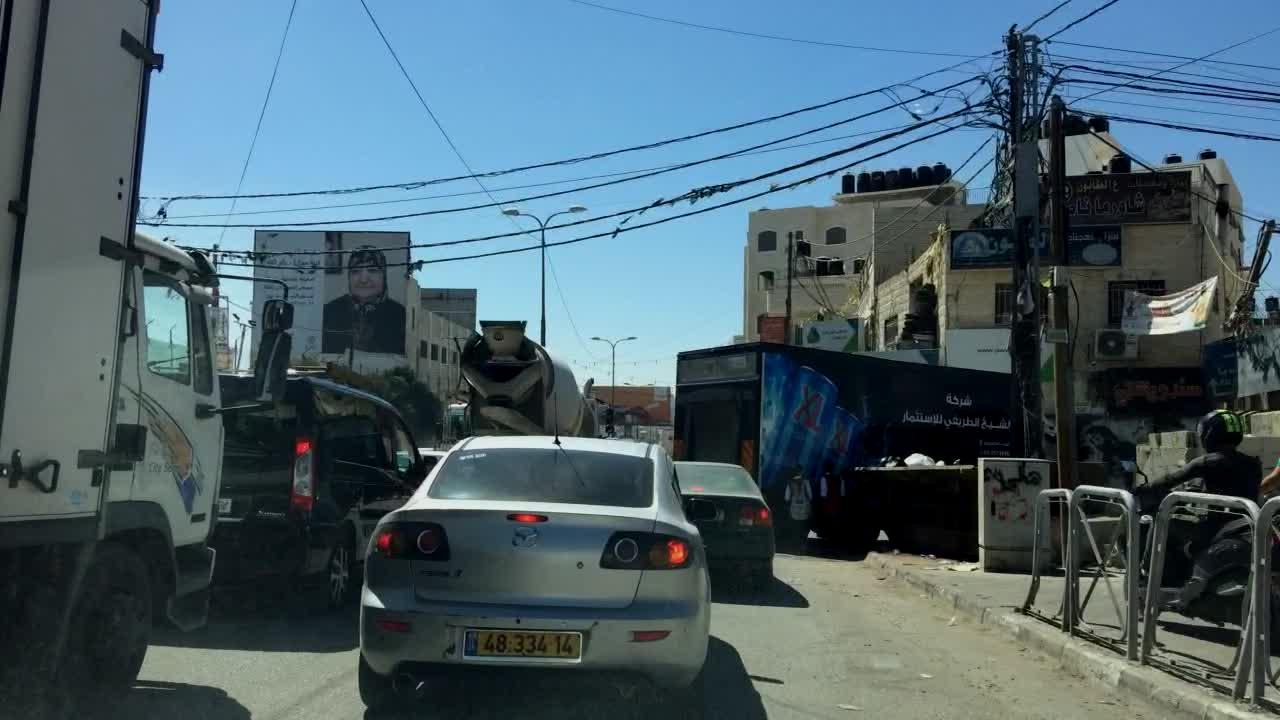Mazda: (506, 523, 545, 558)
